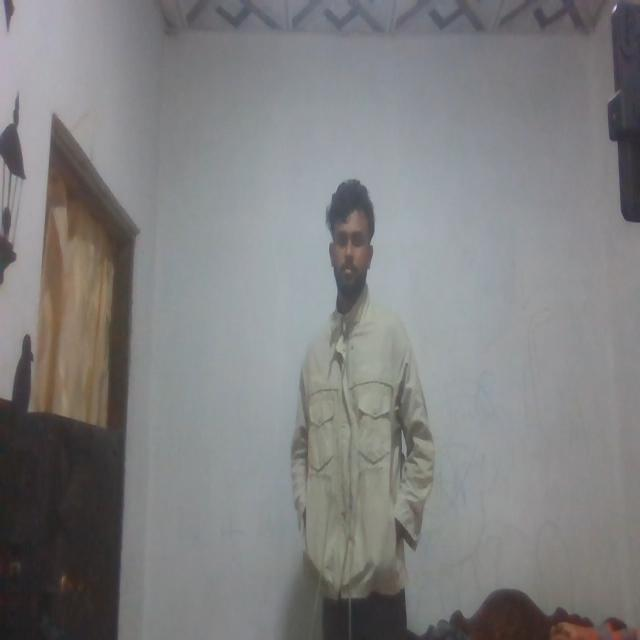Jacket_Wearer: (274, 163, 461, 640)
Person: (281, 268, 434, 596)
